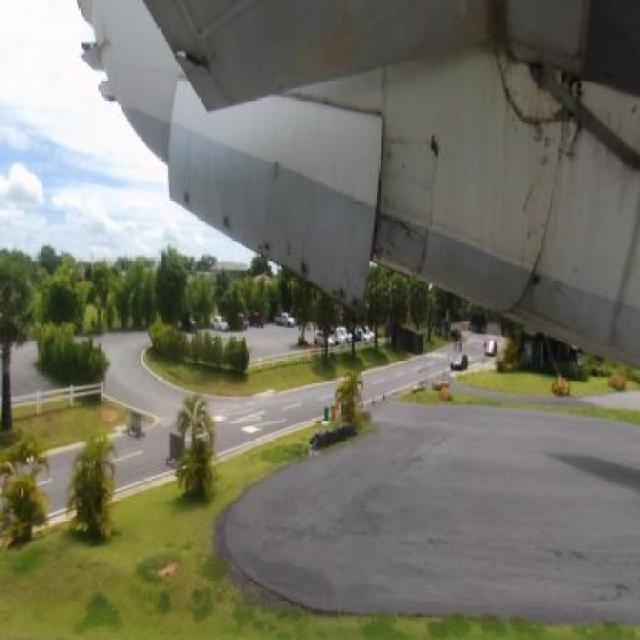Rust: (488, 39, 590, 162), (477, 218, 569, 340), (378, 114, 444, 283), (598, 148, 640, 358), (332, 276, 374, 342), (473, 0, 521, 57), (173, 175, 201, 223), (296, 242, 319, 290), (215, 204, 240, 245), (256, 225, 279, 266)
Scartch: (158, 18, 230, 77), (506, 89, 563, 160), (516, 177, 550, 223)
